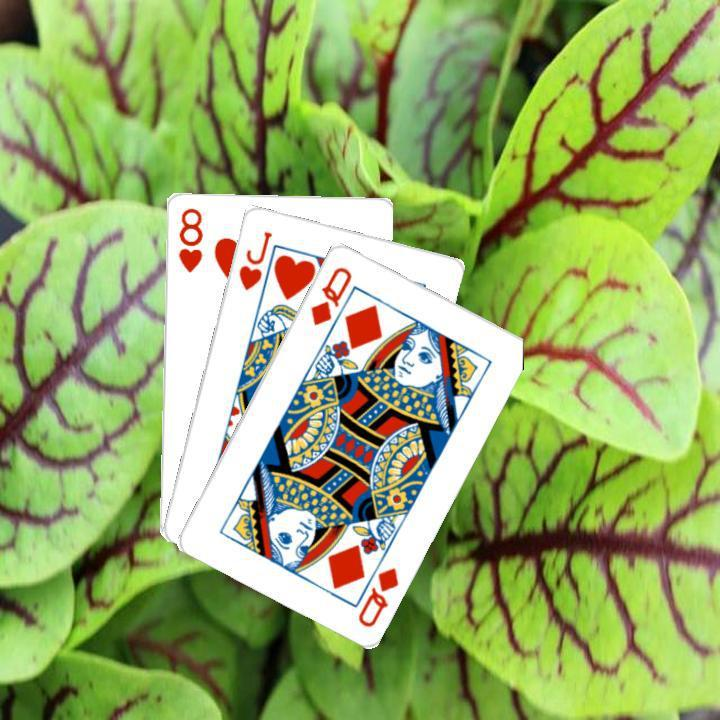8: (173, 203, 204, 274)
J: (234, 226, 274, 292)
Q: (353, 562, 401, 629), (306, 261, 354, 327)
